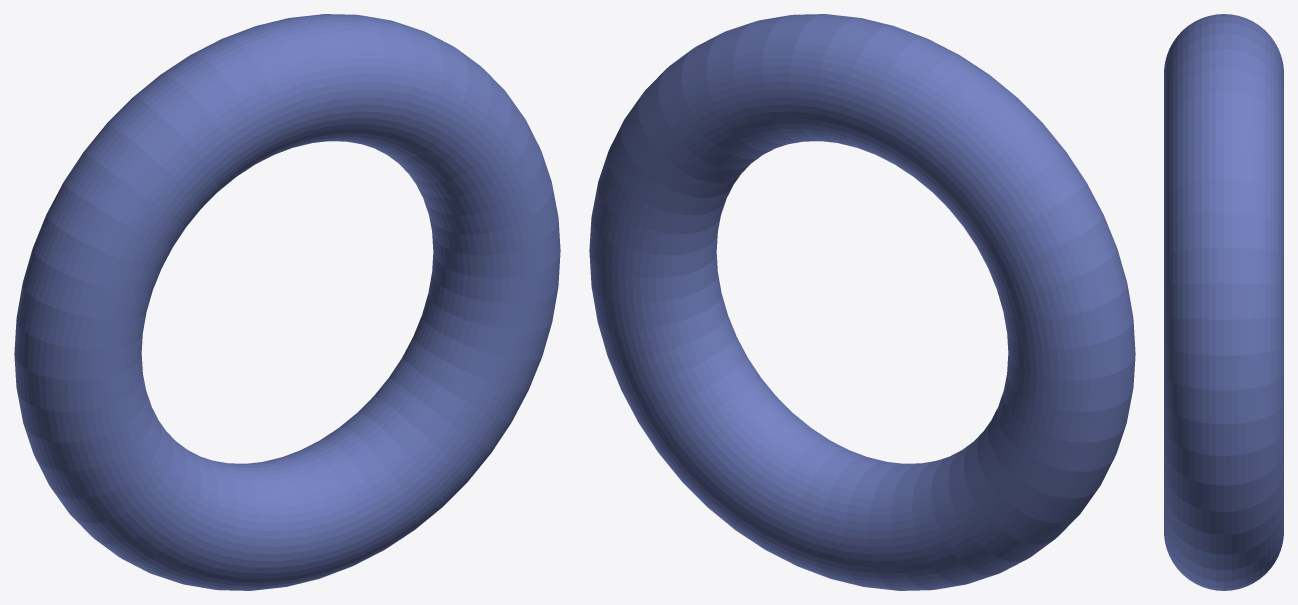
The picture shows the model from 3 angles, left to right: view 1: azimuth 30°, elevation 25°; view 2: azimuth 150°, elevation 25°; view 3: azimuth 270°, elevation 25°; orthographic projection. The views are drawn at different scales.
Parts seen in each view (by area): view 1: world; view 2: world; view 3: world.
Boxes of the visible parts, left/top/right/bottom form: world: left=14, top=14, right=560, bottom=590; world: left=589, top=14, right=1135, bottom=590; world: left=1164, top=14, right=1283, bottom=590.
Size of the model in its own units: 16 by 15.97 by 3.33.
